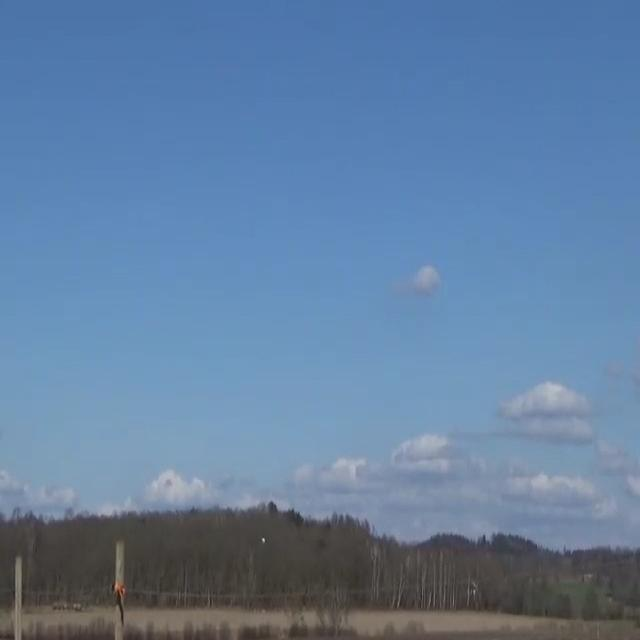drone: (262, 538, 266, 544)
